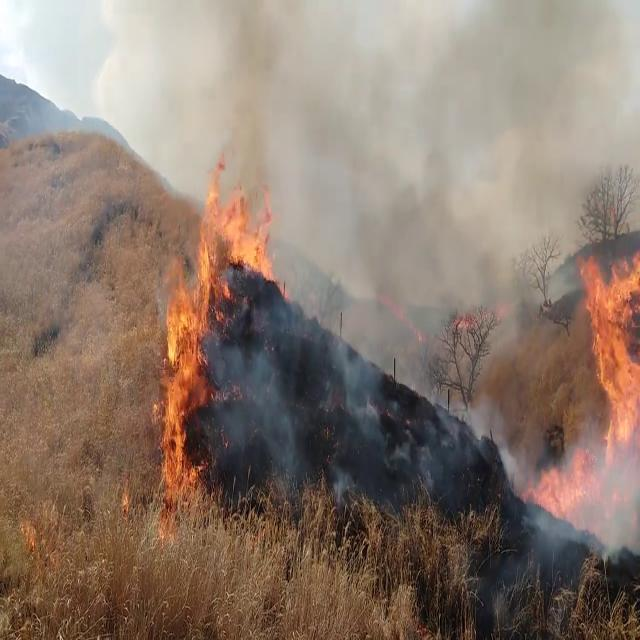Fire: (154, 159, 264, 497), (574, 210, 640, 467)
Smoke: (208, 6, 624, 490)
